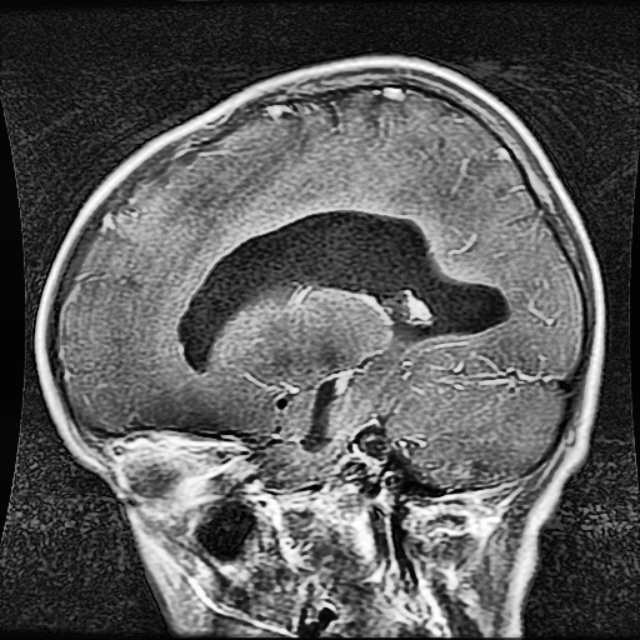Meningioma: (180, 207, 508, 368)
